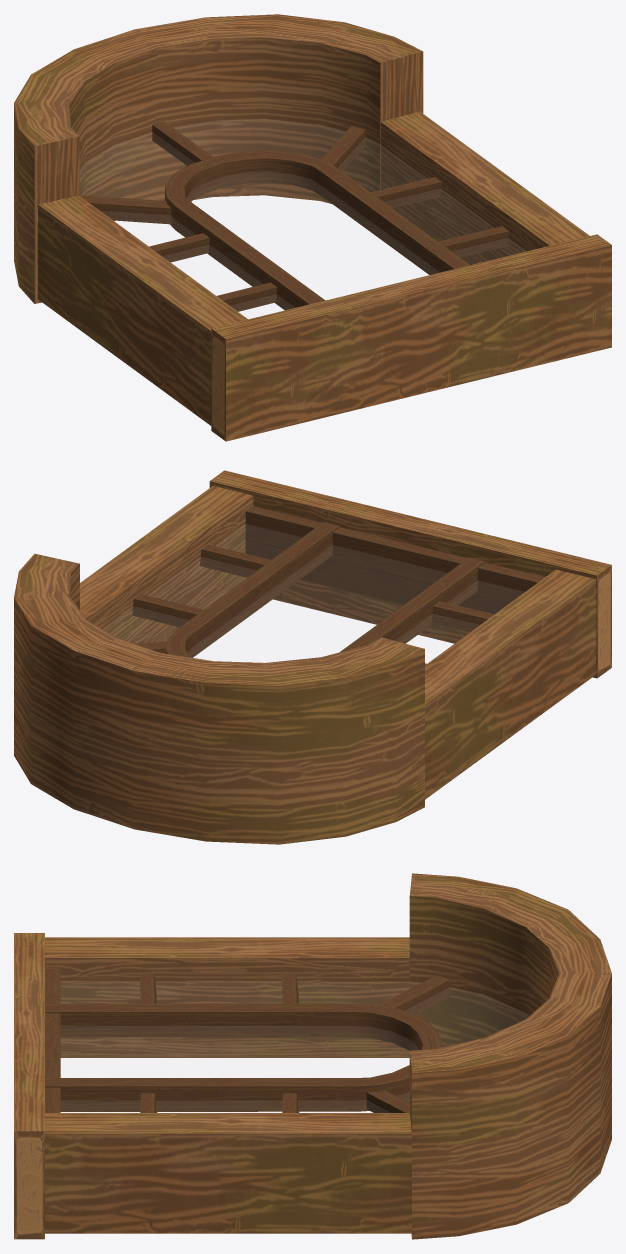
File: Window_Wide_Round1.fbx
3 views of the same model, one above another, from view 1: azimuth 30°, elevation 25°; view 2: azimuth 150°, elevation 25°; view 3: azimuth 270°, elevation 25° (orthographic). The views are drawn at different scales.
Parts seen in each view (by area): view 1: Window_Wide_Round1; view 2: Window_Wide_Round1; view 3: Window_Wide_Round1.
Boxes of the visible parts, <box> form: Window_Wide_Round1: <box>14,14,611,441</box>; Window_Wide_Round1: <box>14,470,611,844</box>; Window_Wide_Round1: <box>14,873,611,1239</box>.
Bounding box in the file's own units: 1.36 × 0.5296 × 1.73.
